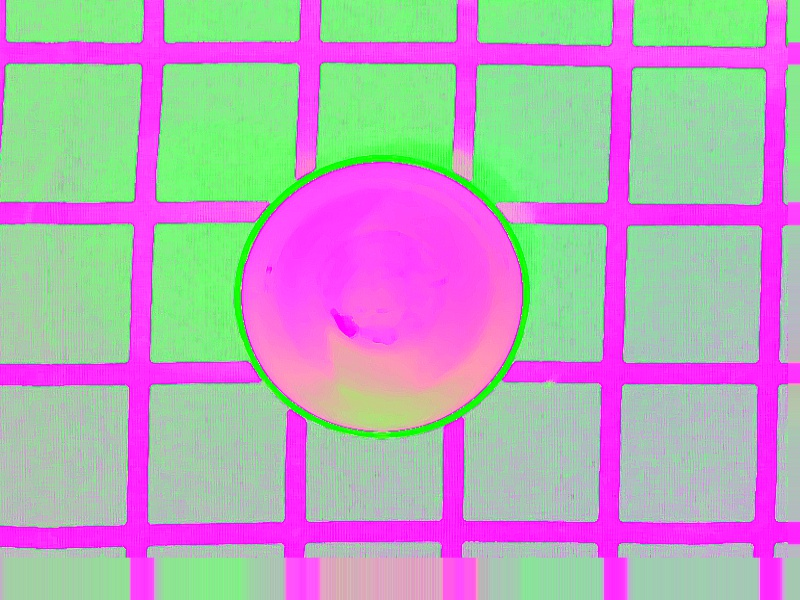bowl_small: (226, 146, 540, 444)
